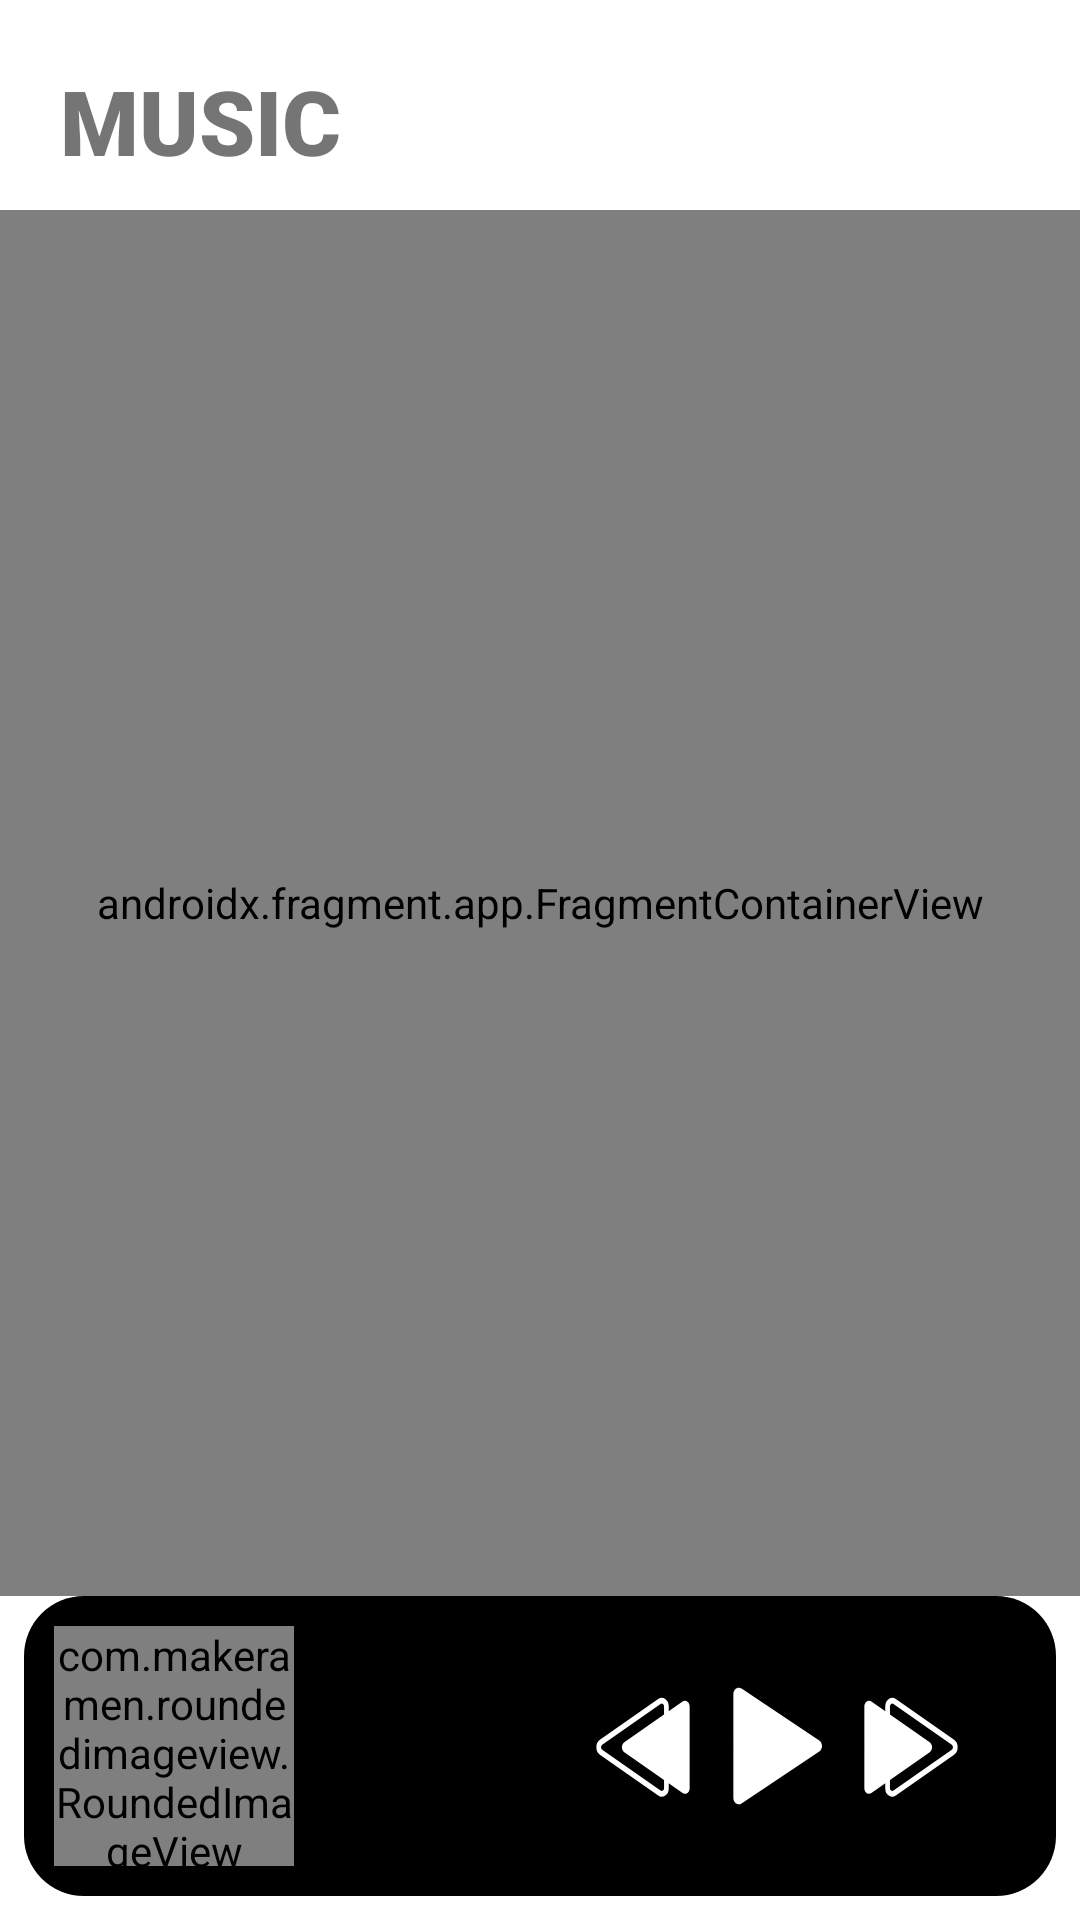

Icons on this 1080px×1920px Android screen, each with the point to tap as [x,y]:
play: [777,1746]
track seek back: [643,1747]
track seek next: [911,1747]
